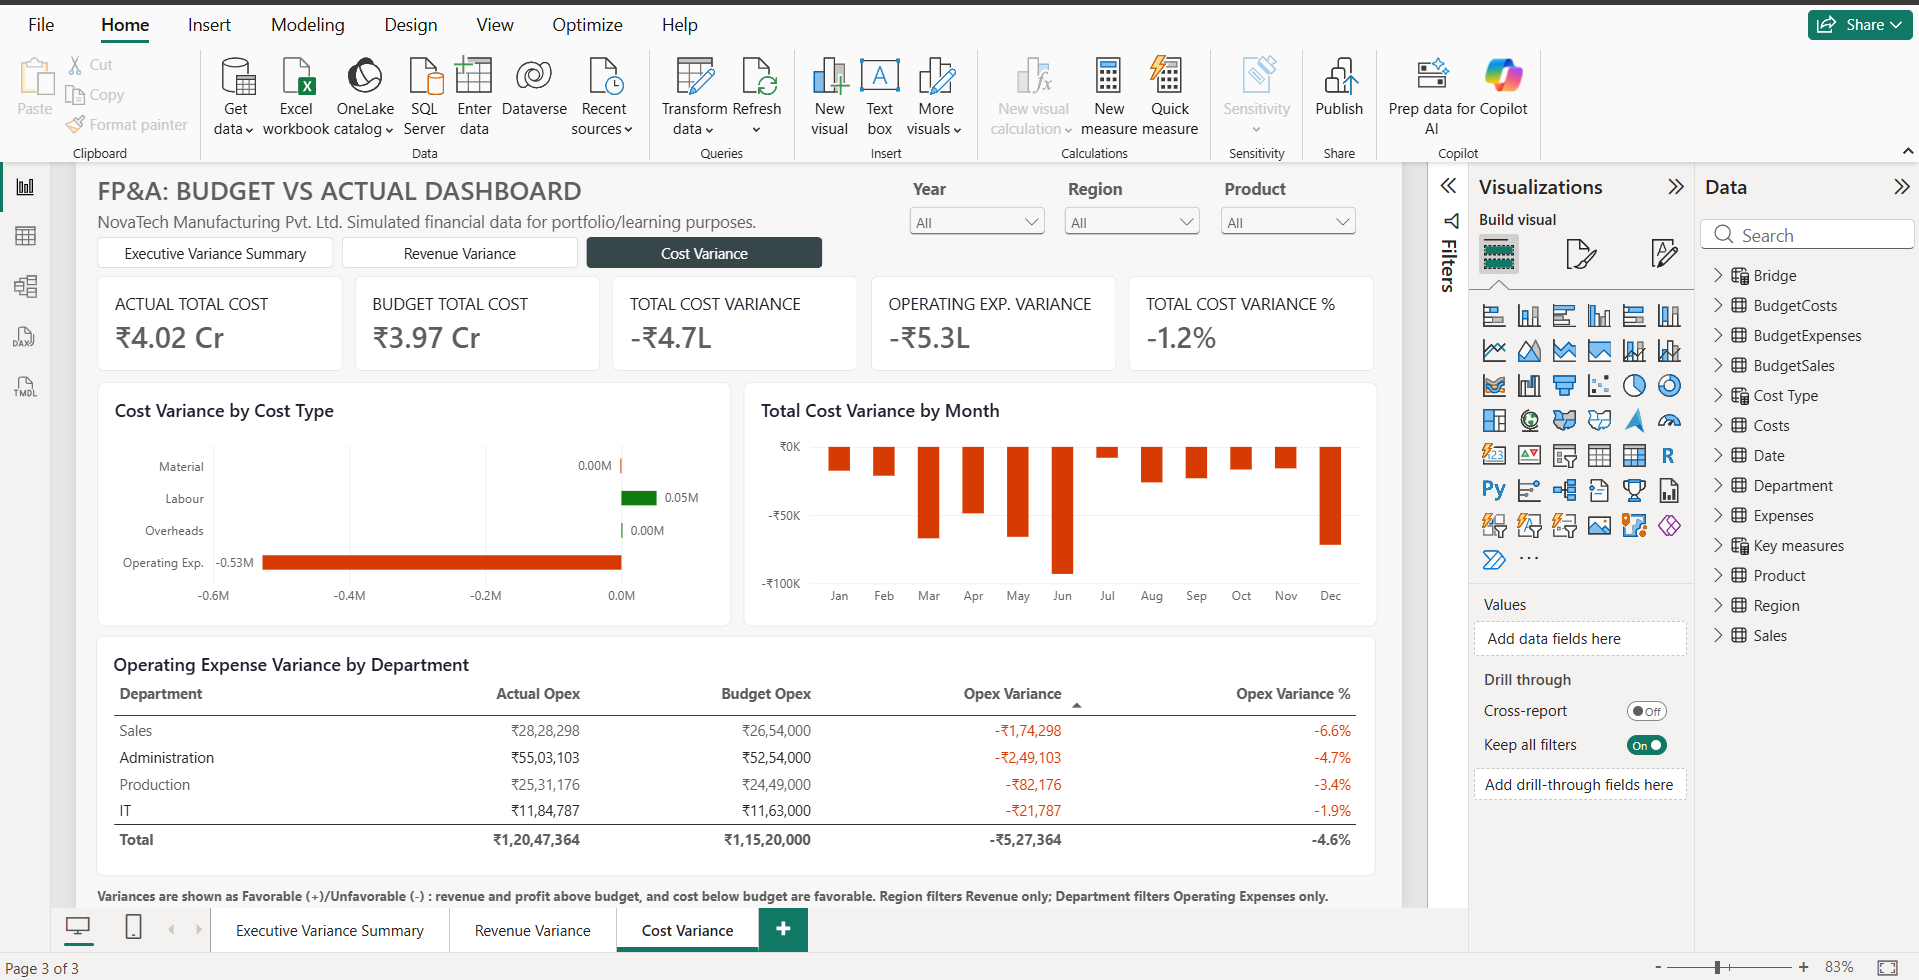

The page's visual inventory and layout, read from the dashboard file:
{"tool":"powerbi","page":{"name":"Cost Variance","canvas":[1280,720],"ordinal":2},"visuals":[{"type":"textbox","title":"FP&A: BUDGET VS ACTUAL DASHBOARD","box":[20,10,760,60],"z":0},{"type":"slicer","fields":{"Values":["Date.Year"]},"box":[800,14,140,58],"z":1},{"type":"slicer","fields":{"Values":["Sales.Region"]},"box":[950,14,140,58],"z":2},{"type":"slicer","fields":{"Values":["Product.Product Name"]},"box":[1100,14,140,58],"z":3},{"type":"pageNavigator","box":[20,72,700,30],"z":4},{"type":"textbox","title":"Variances are shown as Favorable (+)/Unfavorable (-) : revenue and profit above budget, and cost below budget are favorable. Region filters Revenue only; Department filters Operating Expenses only.","box":[20,700,1236,18],"z":5},{"type":"cardVisual","fields":{"Data":["Key measures.Actual Total Cost Label"]},"box":[20,110,237,92],"z":6},{"type":"cardVisual","fields":{"Data":["Key measures.Budget Total Cost Label"]},"box":[269,110,237,92],"z":7},{"type":"cardVisual","fields":{"Data":["Key measures.Total Cost Variance Label"]},"box":[518,110,237,92],"z":8},{"type":"cardVisual","fields":{"Data":["Key measures.Total Cost Variance %"]},"box":[1016,110,237,92],"z":9},{"type":"cardVisual","fields":{"Data":["Key measures.Opex Variance Label"]},"box":[767,110,237,92],"z":10},{"type":"clusteredBarChart","title":"Cost Variance by Cost Type","fields":{"Category":["Cost Type.Type"],"Y":["Key measures.Variance by Type"]},"box":[20,212,612,236],"z":11},{"type":"clusteredColumnChart","fields":{"Category":["Date.Month"],"Y":["Key measures.Total Cost Variance"]},"box":[644,212,612,236],"z":12},{"type":"tableEx","title":"Operating Expense Variance by Department","fields":{"Values":["Department.Department","Key measures.Actual Opex","Key measures.Budget Opex","Key measures.Opex Variance","Key measures.Opex Variance %"]},"box":[19.3,457.2,1235.4,231.6],"z":13}]}

Visuals, with their boxes on the page's 1280x720 design canvas (x1, y1, x2, y2). These are canvas units, not pixel positions in the 1919x980 screenshot, which may show the page scaled, cropped or inside an application window:
"FP&A: BUDGET VS ACTUAL DASHBOARD" textbox: 20:10:780:70
slicer - Date.Year: 800:14:940:72
slicer - Sales.Region: 950:14:1090:72
slicer - Product.Product Name: 1100:14:1240:72
pageNavigator: 20:72:720:102
"Variances are shown as Favorable (+)/Unfavorable (-) : revenue and profit above budget, and cost below budget are favorable. Region filters Revenue only; Department filters Operating Expenses only." textbox: 20:700:1256:718
cardVisual - Key measures.Actual Total Cost Label: 20:110:257:202
cardVisual - Key measures.Budget Total Cost Label: 269:110:506:202
cardVisual - Key measures.Total Cost Variance Label: 518:110:755:202
cardVisual - Key measures.Total Cost Variance %: 1016:110:1253:202
cardVisual - Key measures.Opex Variance Label: 767:110:1004:202
"Cost Variance by Cost Type" clusteredBarChart: 20:212:632:448
clusteredColumnChart - Date.Month x Key measures.Total Cost Variance: 644:212:1256:448
"Operating Expense Variance by Department" tableEx: 19:457:1255:689
